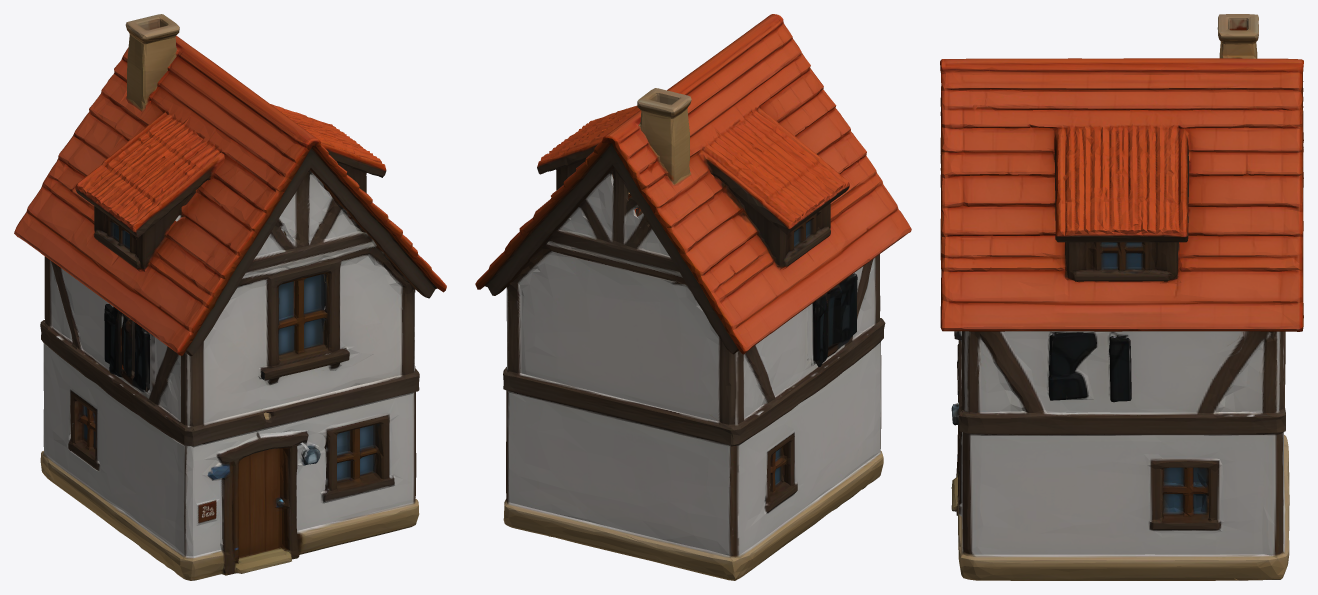
File: building_plaster.glb
3 renders of one model, left to right at view 1: azimuth 30°, elevation 25°; view 2: azimuth 150°, elevation 25°; view 3: azimuth 270°, elevation 25°, orthographic. The views are drawn at different scales.
Parts seen in each view (by area): view 1: textured_mesh.obj; view 2: textured_mesh.obj; view 3: textured_mesh.obj.
Part boxes in pixels (x1=…): textured_mesh.obj: x1=14, y1=14, x2=446, y2=580; textured_mesh.obj: x1=475, y1=14, x2=911, y2=580; textured_mesh.obj: x1=940, y1=14, x2=1303, y2=580.
Size of the model in its own units: 1.27 by 1.99 by 1.35.
Materials: 1 (1 with a texture image).
